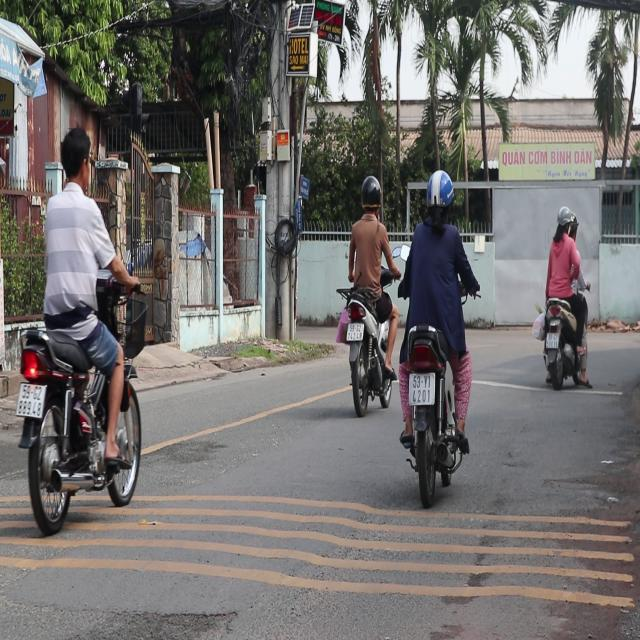helmet: (423, 167, 454, 226), (358, 173, 382, 216), (554, 203, 572, 237)
licenseplate: (11, 123, 144, 531), (394, 165, 478, 498), (334, 172, 398, 414), (537, 202, 590, 389)
motorcyclist: (56, 124, 92, 190)
nohelmet: (16, 382, 44, 415), (409, 373, 435, 404), (346, 322, 364, 340), (546, 333, 558, 348)
